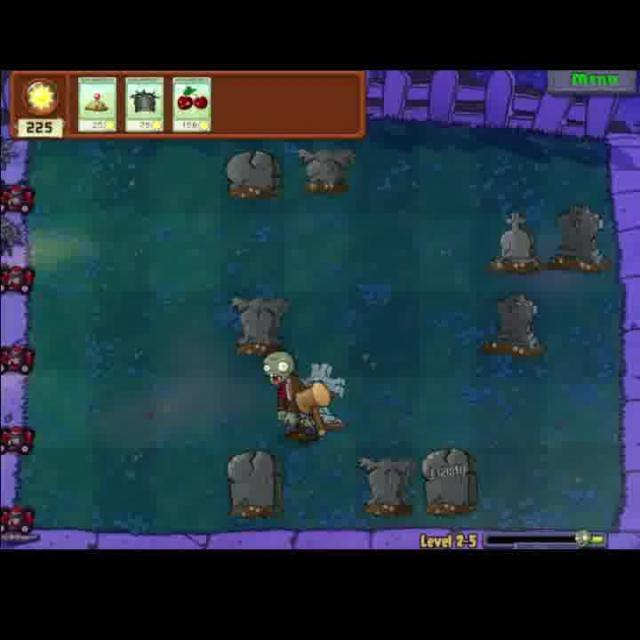zombies: (258, 344, 322, 451)
